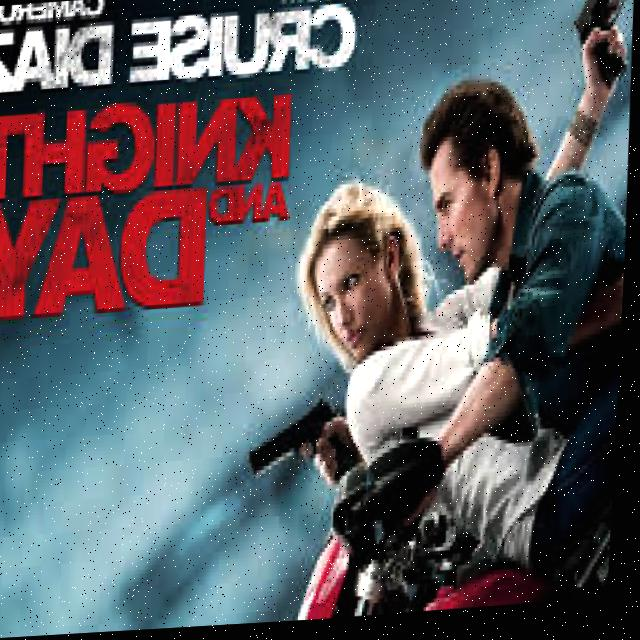pistol: (252, 396, 354, 477), (572, 0, 632, 51)
